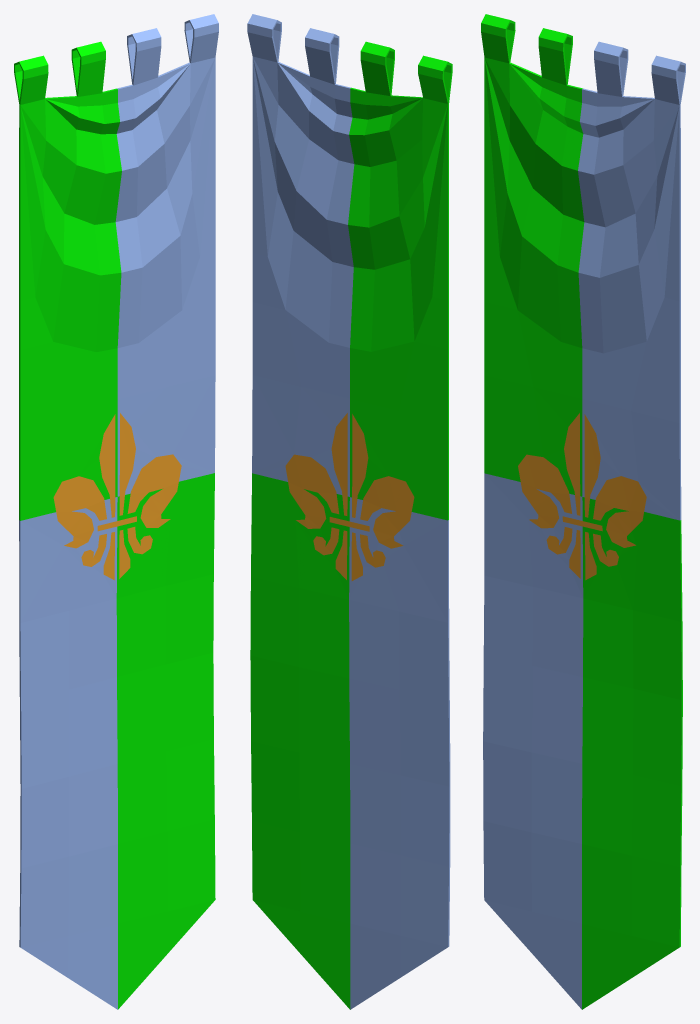
Rendered from SM_Flag_Banner_Big_C_Fantasy.fbx.
3 renders of one model, left to right at view 1: azimuth 30°, elevation 25°; view 2: azimuth 150°, elevation 25°; view 3: azimuth 330°, elevation 25°, orthographic.
Visible parts, largest first — view 1: flag-banner-big-c-fantasy; view 2: flag-banner-big-c-fantasy; view 3: flag-banner-big-c-fantasy.
Part boxes in pixels (x1,y1,x2,y2): flag-banner-big-c-fantasy: [14, 14, 218, 1009]; flag-banner-big-c-fantasy: [247, 14, 452, 1009]; flag-banner-big-c-fantasy: [481, 14, 685, 1009].
Size of the model in its own units: 0.9569 by 4.55 by 0.0886.
